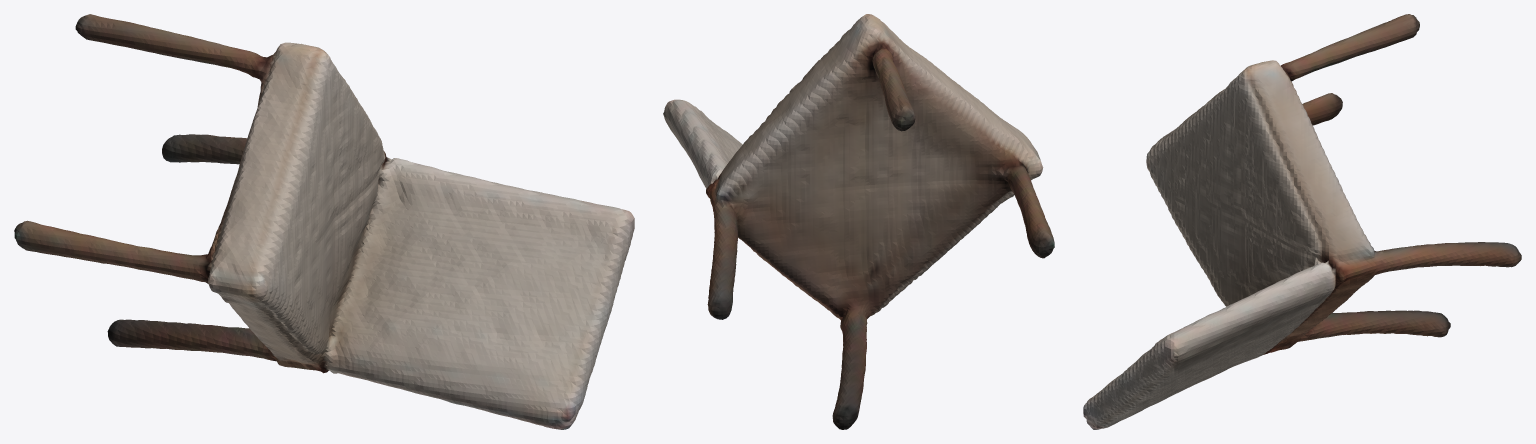
3 renders of one model, left to right at view 1: azimuth 30°, elevation 25°; view 2: azimuth 150°, elevation 25°; view 3: azimuth 270°, elevation 25°, orthographic. The views are drawn at different scales.
Bounding box in the file's own units: 0.9972 × 0.6508 × 0.8512.
